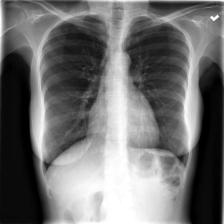normal: (35, 10, 193, 194)
